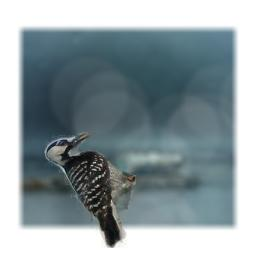Woodpecker: (44, 132, 136, 248)
